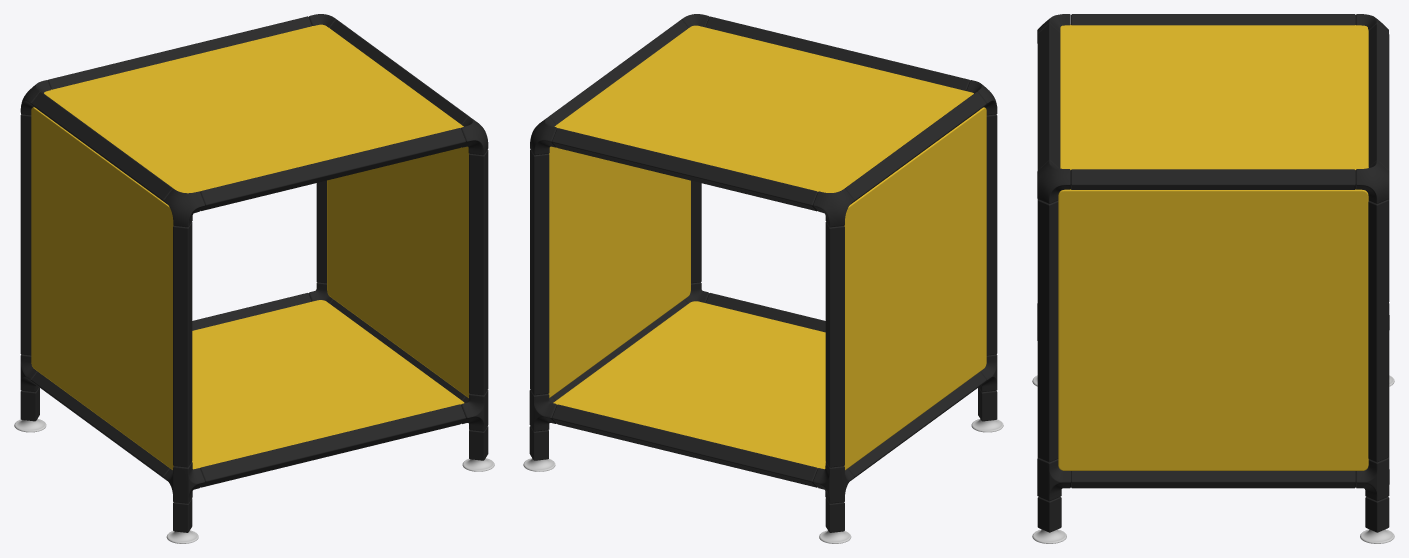
The picture shows the model from 3 angles, left to right: view 1: azimuth 30°, elevation 25°; view 2: azimuth 150°, elevation 25°; view 3: azimuth 270°, elevation 25°; orthographic projection. The views are drawn at different scales.
Parts seen in each view (by area): view 1: 374x329x329; view 2: 374x329x329; view 3: 374x329x329.
Boxes of the visible parts, box(x1,y1,x2,y2) form: 374x329x329: box(14, 14, 494, 543); 374x329x329: box(523, 14, 1003, 543); 374x329x329: box(1032, 14, 1394, 543).
Bounding box in the file's own units: 0.4639 × 0.4683 × 0.4182.
